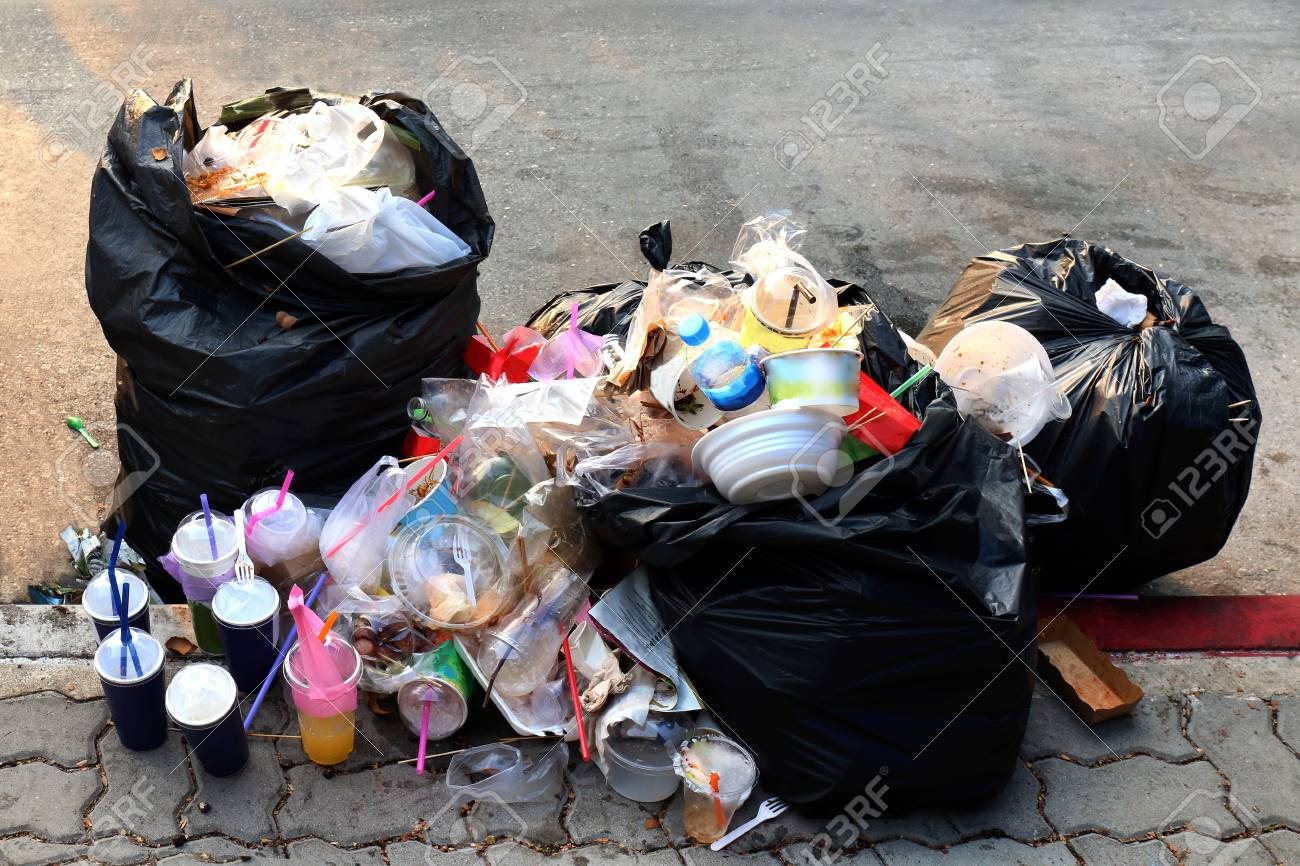plastic_bagwdw: (36, 50, 548, 723), (553, 226, 1080, 866), (861, 99, 1287, 757)
